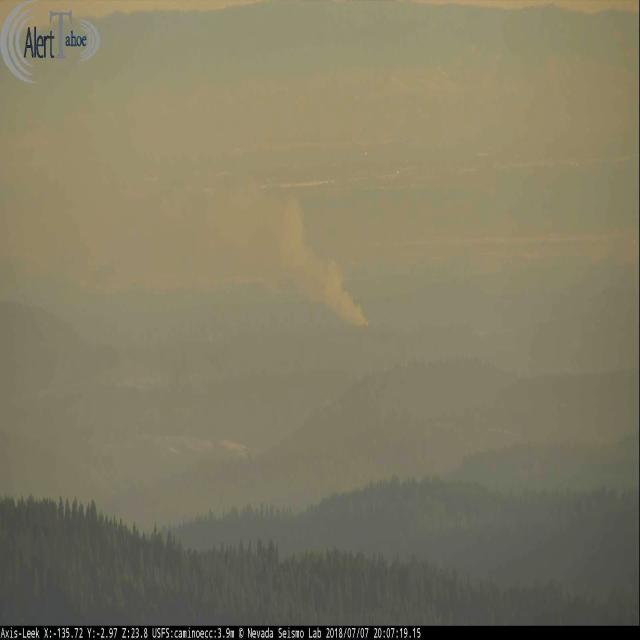smoke: (278, 195, 370, 329)
